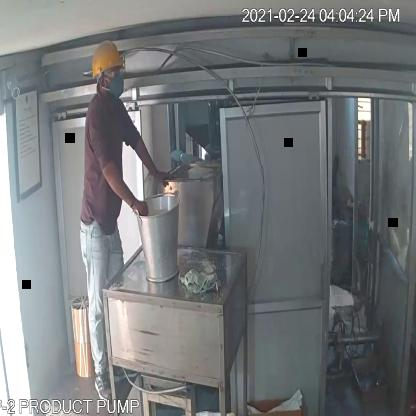helmet: (89, 37, 122, 78)
